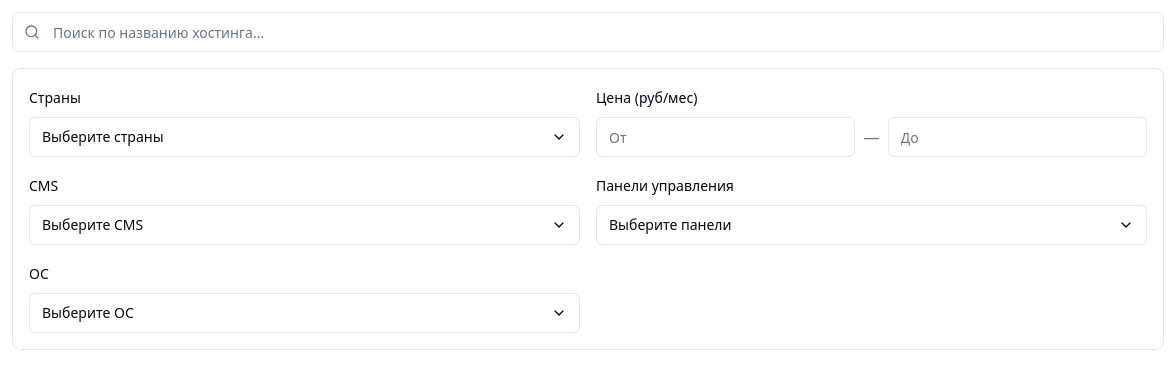
Test: HostingFilters › фильтрует опции по поисковому запросу
The image size is (1176, 367).
Click the button "Выберите страны" at {"x": 103, "y": 136}, box x1=29 y1=117 x2=580 y2=157
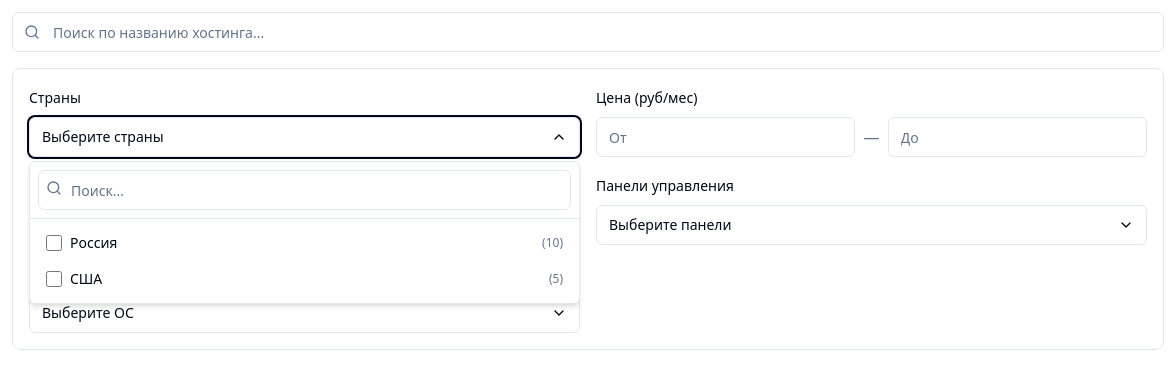
Check: the text "Россия" is shown, box x1=70 y1=233 x2=117 y2=253
Вводим поисковый запрос
Type "рос" into the field with placeholder "Поиск..." at {"x": 304, "y": 190}, box x1=38 y1=170 x2=571 y2=210
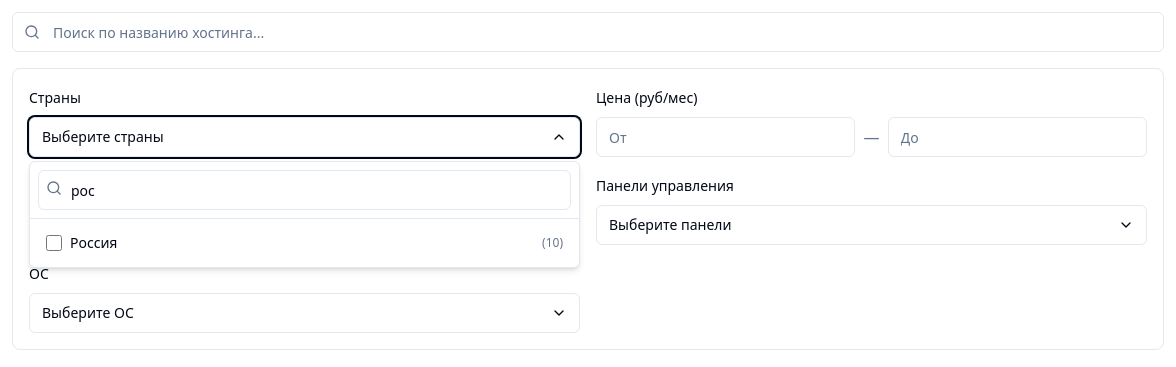
Check: the text "Россия" is shown, box x1=70 y1=233 x2=117 y2=253
Check: the text "США" is gone
